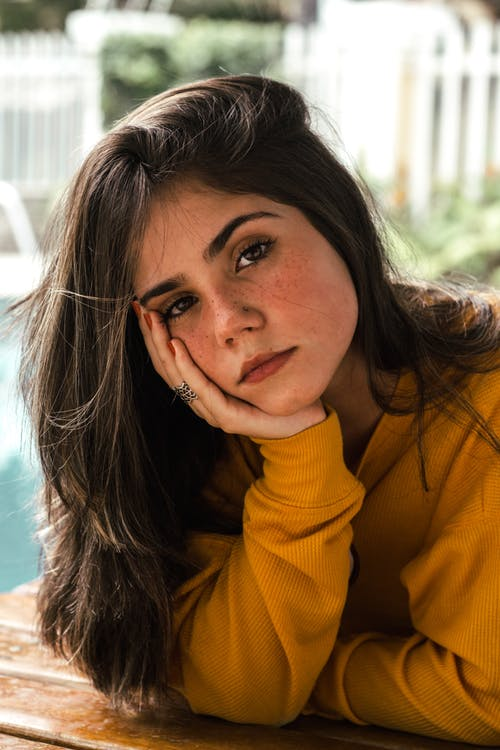bare: (172, 290, 356, 409)
